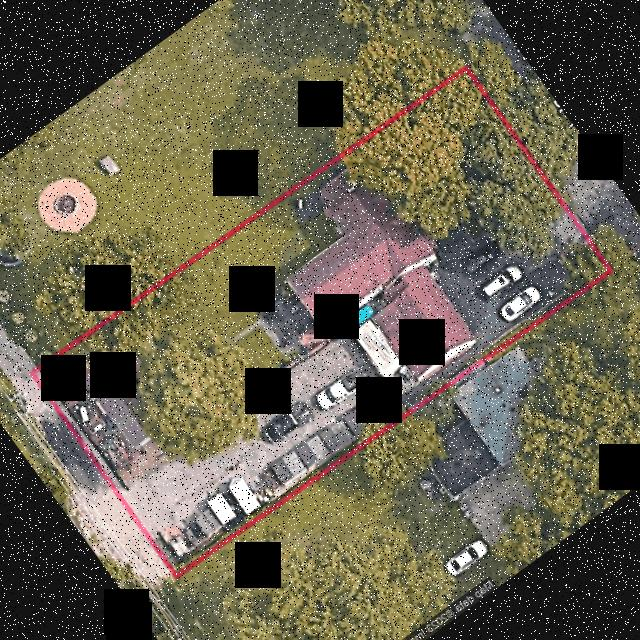Driveway: (117, 206, 581, 561)
Extra Driveway: (559, 166, 616, 228)
House: (285, 169, 474, 381)
Other: (162, 402, 376, 559), (57, 352, 165, 486), (331, 292, 414, 396), (257, 278, 323, 352)
Sidewalk: (34, 370, 122, 491), (230, 319, 258, 342)
